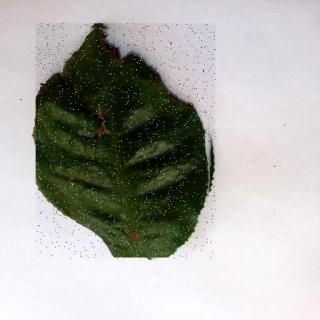Algal Leaf: (37, 25, 218, 260)
